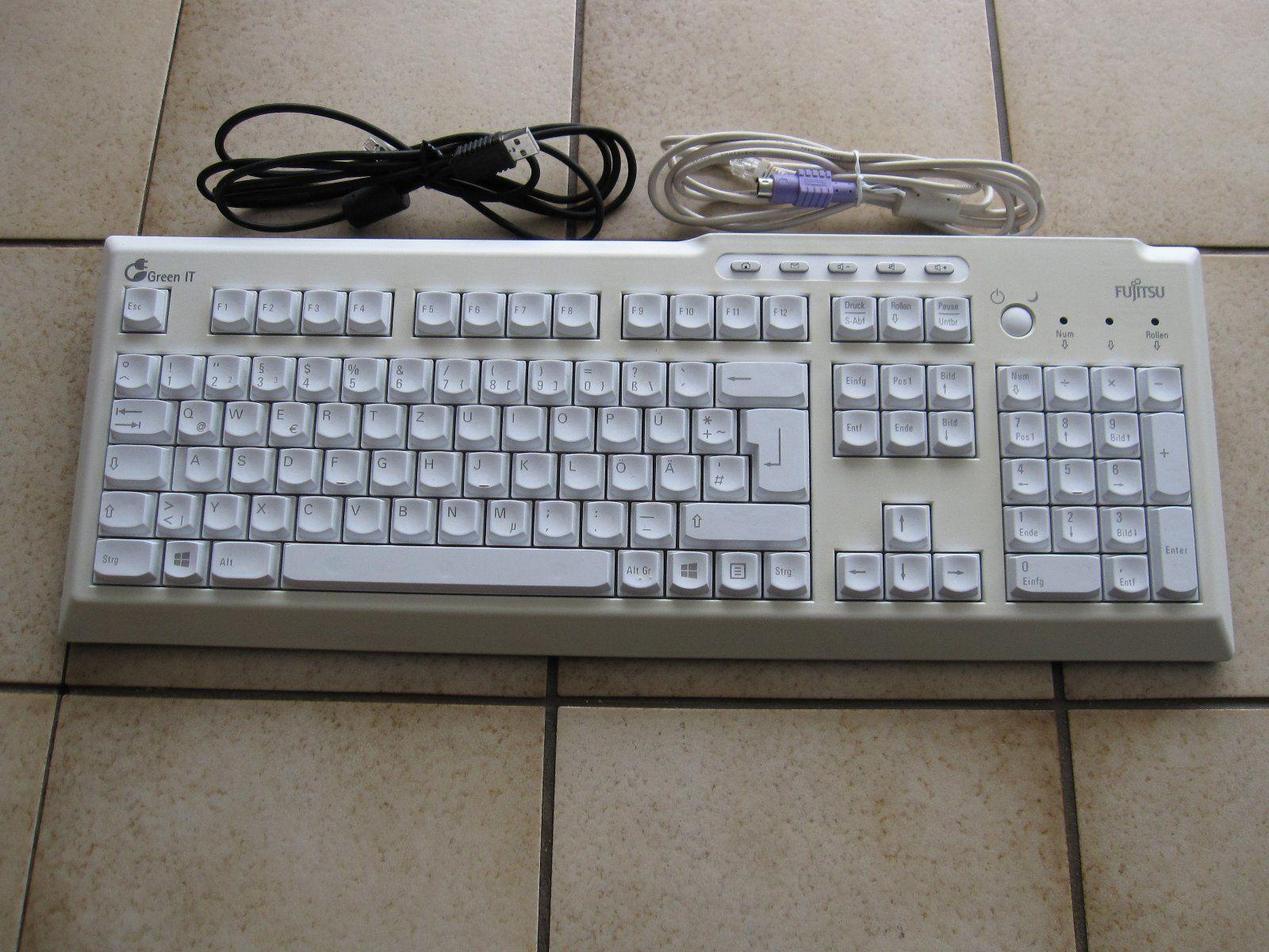0: (573, 356, 616, 398)
1: (158, 351, 194, 389)
2: (203, 351, 243, 390)
3: (248, 351, 289, 393)
4: (295, 352, 334, 392)
5: (341, 354, 381, 393)
6: (387, 354, 427, 393)
7: (434, 355, 476, 394)
8: (480, 355, 523, 396)
9: (527, 356, 569, 397)
a: (181, 443, 223, 482)
accent: (669, 358, 709, 396)
ae: (654, 451, 697, 492)
alt-left: (208, 537, 274, 579)
altgr-right: (615, 546, 661, 591)
b: (389, 494, 431, 535)
c: (295, 493, 335, 532)
caret: (113, 351, 148, 387)
comma: (533, 497, 576, 537)
d: (276, 444, 316, 484)
del: (716, 358, 805, 396)
e: (267, 398, 309, 440)
enter: (741, 402, 807, 493)
f: (323, 446, 363, 486)
g: (369, 447, 409, 486)
h: (416, 448, 457, 486)
hash: (703, 451, 746, 493)
i: (503, 402, 541, 440)
j: (463, 448, 504, 488)
k: (512, 449, 553, 489)
keyboard: (67, 232, 1227, 630)
l: (560, 450, 600, 489)
less: (154, 489, 196, 531)
m: (485, 496, 527, 539)
minus: (631, 498, 673, 539)
n: (437, 496, 478, 536)
o: (549, 403, 589, 442)
oe: (607, 450, 649, 491)
p: (596, 404, 637, 442)
plus: (691, 404, 733, 444)
point: (582, 497, 623, 537)
q: (174, 397, 217, 439)
r: (314, 399, 354, 438)
s: (229, 443, 269, 483)
shift-left: (96, 488, 148, 528)
shift-lock: (103, 441, 167, 481)
shift-right: (681, 499, 807, 540)
space: (277, 540, 613, 589)
ss: (620, 357, 663, 397)
strg-left: (89, 535, 155, 578)
strg-right: (762, 548, 809, 593)
t: (362, 401, 401, 438)
tab: (108, 396, 170, 435)
u: (455, 401, 494, 440)
ue: (643, 404, 684, 444)
v: (343, 493, 383, 533)
w: (223, 397, 261, 436)
x: (248, 492, 289, 531)
y: (201, 489, 241, 529)
z: (408, 401, 448, 440)
